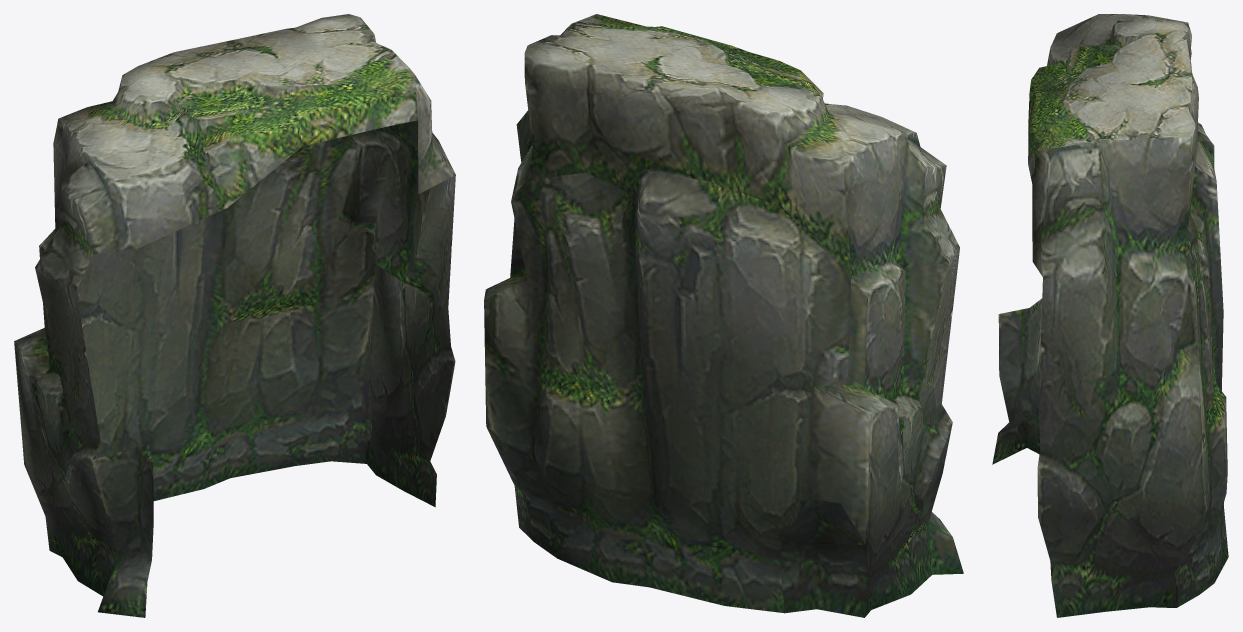
File: 4006_Item_shitou_6_1.FBX
The picture shows the model from 3 angles, left to right: view 1: azimuth 30°, elevation 25°; view 2: azimuth 150°, elevation 25°; view 3: azimuth 270°, elevation 25°; orthographic projection. The views are drawn at different scales.
Visible parts, largest first — view 1: 4006_Item_shitou_6_1; view 2: 4006_Item_shitou_6_1; view 3: 4006_Item_shitou_6_1.
Boxes of the visible parts, x1,y1,x2,y2 form: 4006_Item_shitou_6_1: (14, 14, 455, 617); 4006_Item_shitou_6_1: (484, 14, 963, 617); 4006_Item_shitou_6_1: (992, 14, 1228, 617).
Size of the model in its own units: 946 by 462 by 1050.
